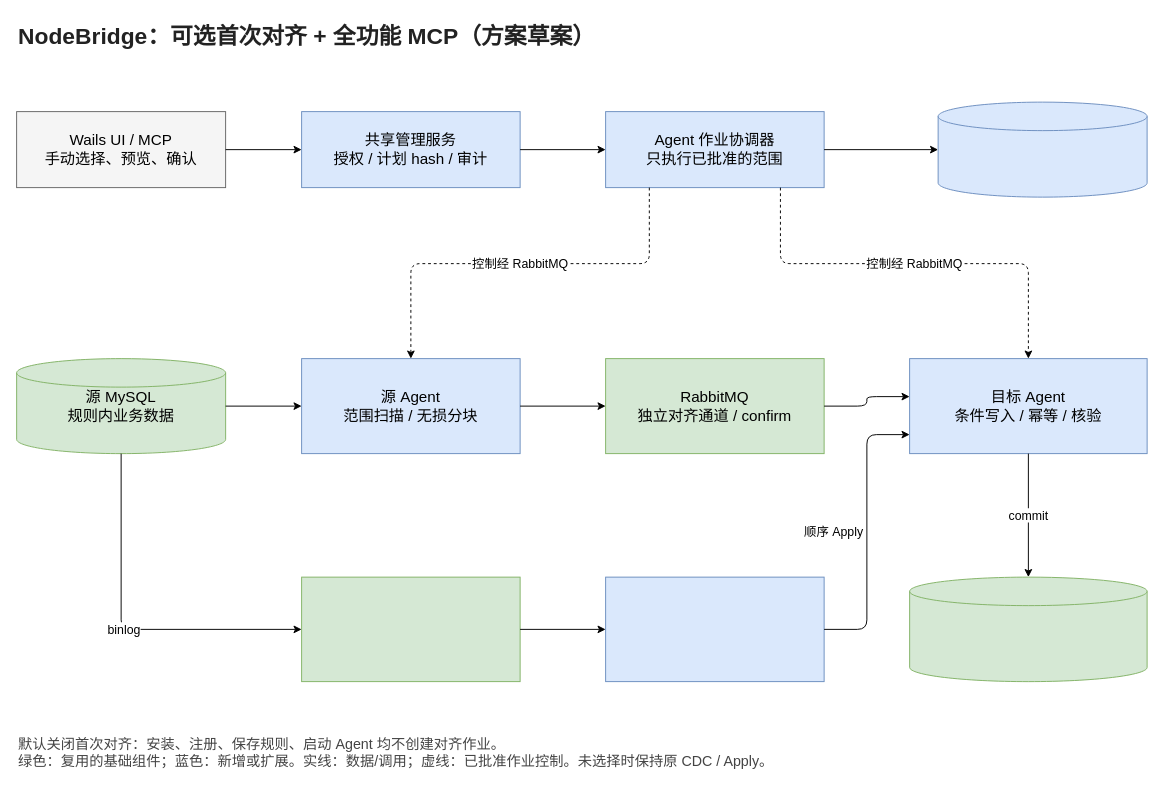
Some shapes in this 1164 by 807 pixel diagram are drawn without their labels. Here are the shapes that lost their labels. From the top down, the centre of each, then its label:
(1042,149): 持久作业记录 状态 / 租约 / 收据
(410,629): Canal / SyncEvent 现有持续 CDC 链路
(714,629): RabbitMQ / 范围门禁 默认直通原 Apply 仅批准对齐范围暂存
(1028,629): 目标 MySQL 业务 + 回环日志 + 收据 同事务提交后 ACK
